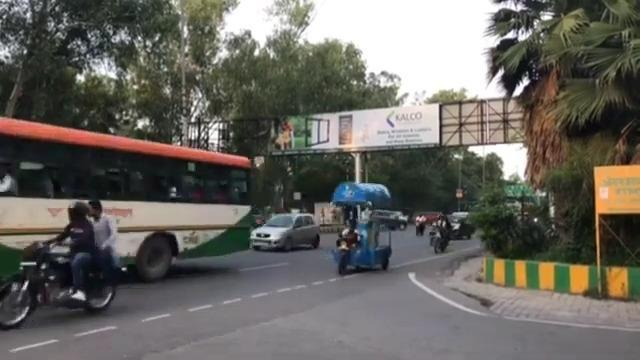Bus: (0, 113, 255, 282)
Truck: (326, 181, 397, 276)
